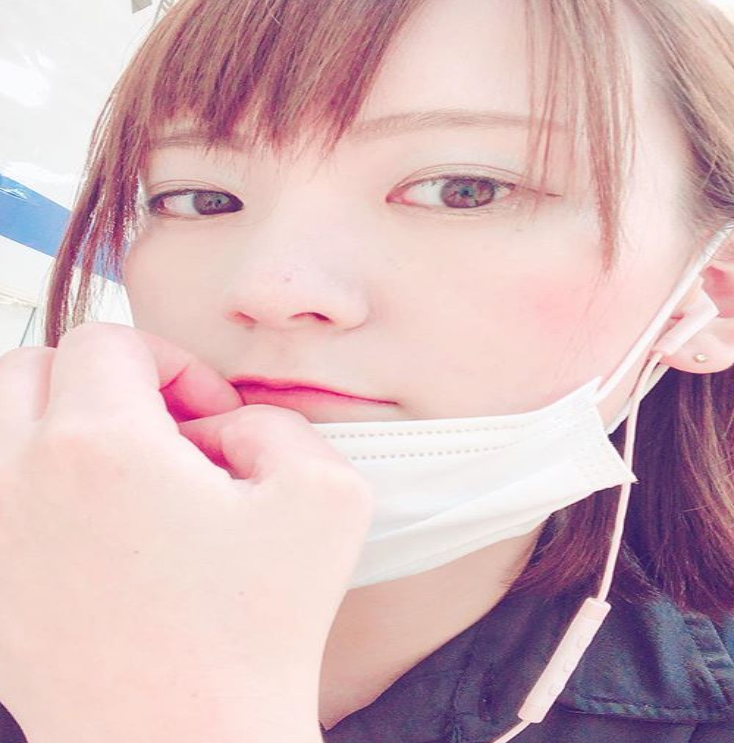mask_weared_incorrect: (114, 0, 734, 575)
